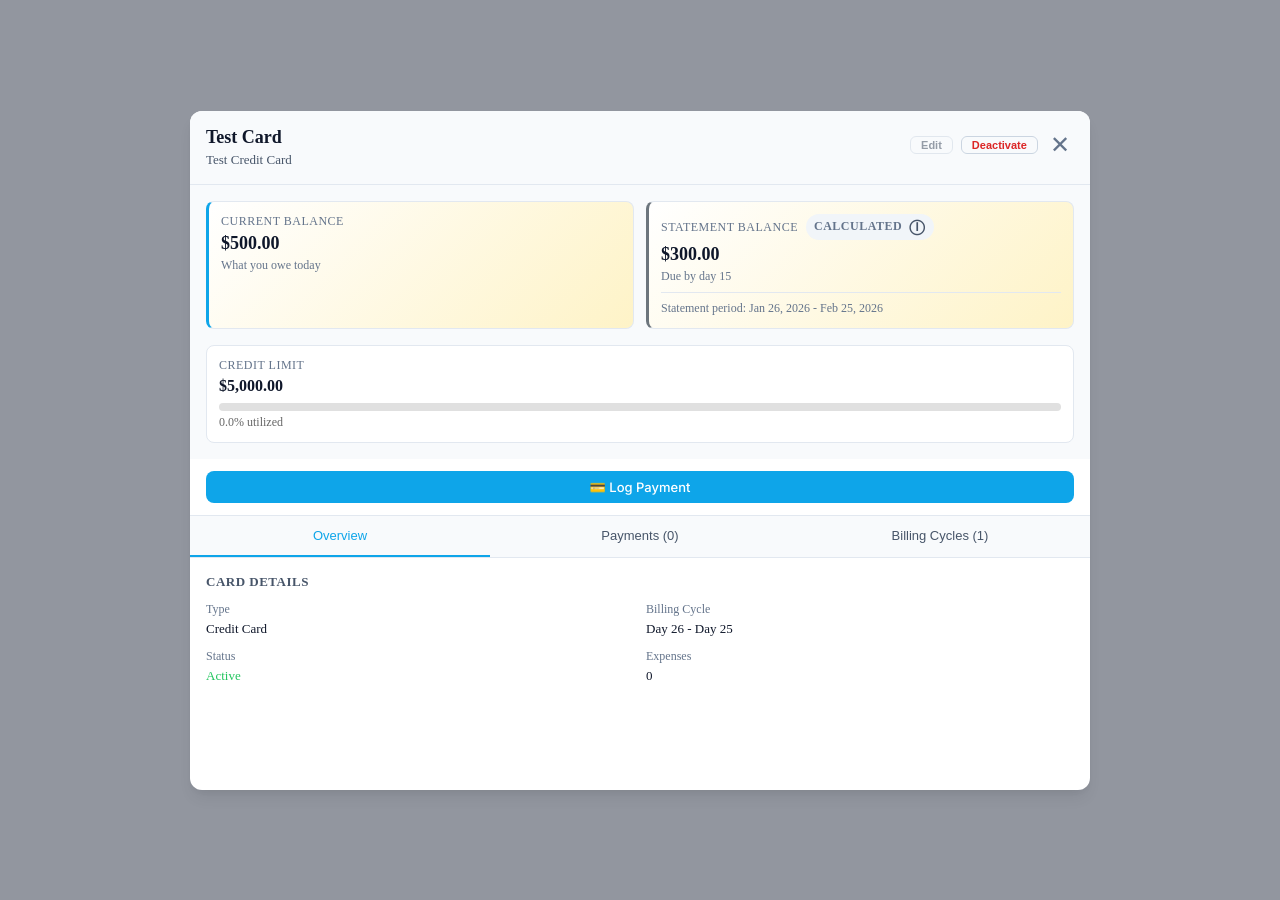
Test: CreditCardDetailView - Billing Cycle Integration › Billing Cycle Form Integration › should open billing cycle form when "Enter Statement" button is clicked
Expected: the heading "Test Card" is shown, left=206, top=126, right=292, bottom=148
# Click on Billing Cycles tab to see the cycles list
Click the button "Billing Cycles (1)". click: x=940, y=536
box: left=790, top=516, right=1090, bottom=556
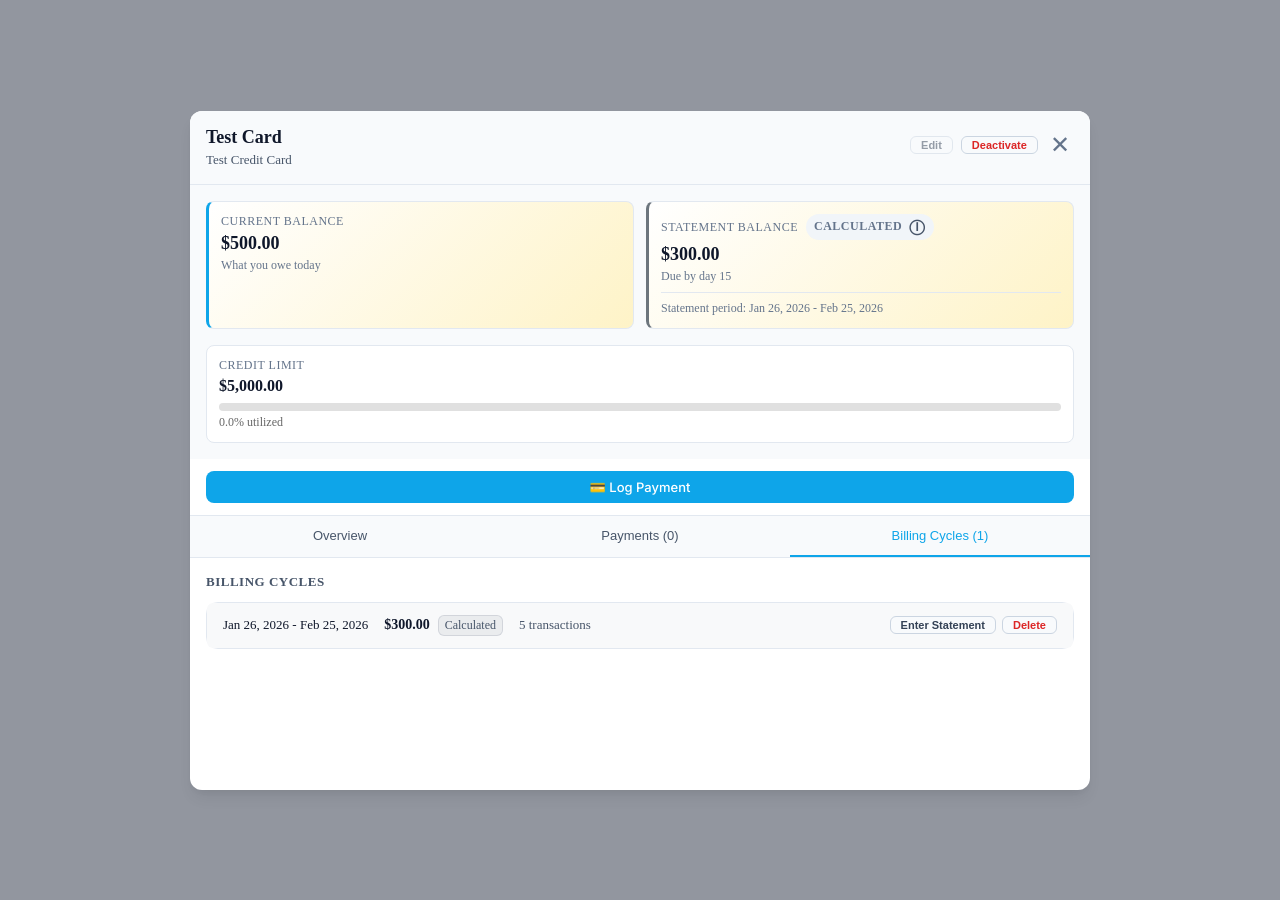
Result: the button "Enter Statement" is shown
# Click Enter Statement button
Click the button "Enter Statement". click: x=943, y=625
box: left=890, top=616, right=996, bottom=634
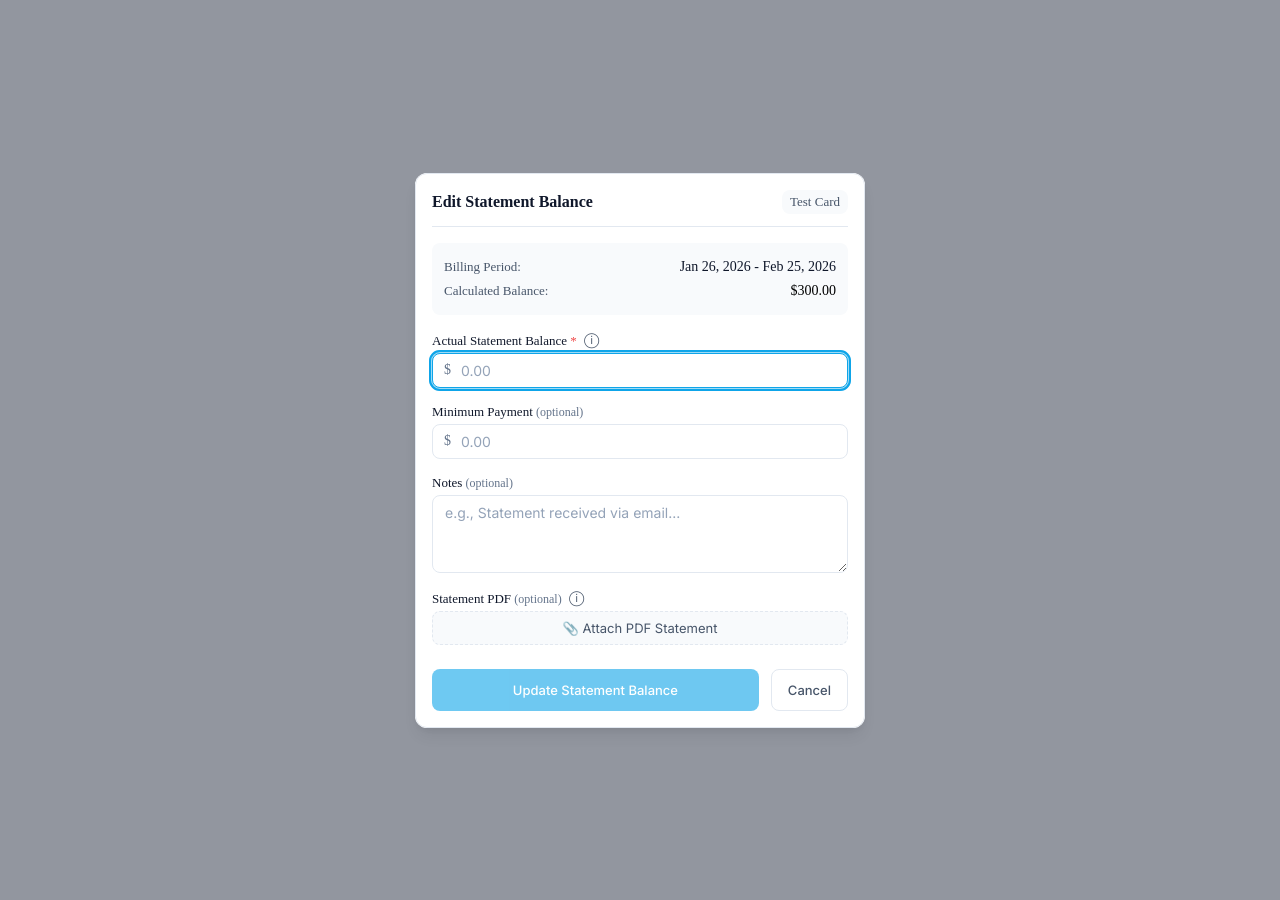
Result: the heading "Edit Statement Balance" is shown at left=432, top=192, right=593, bottom=210
